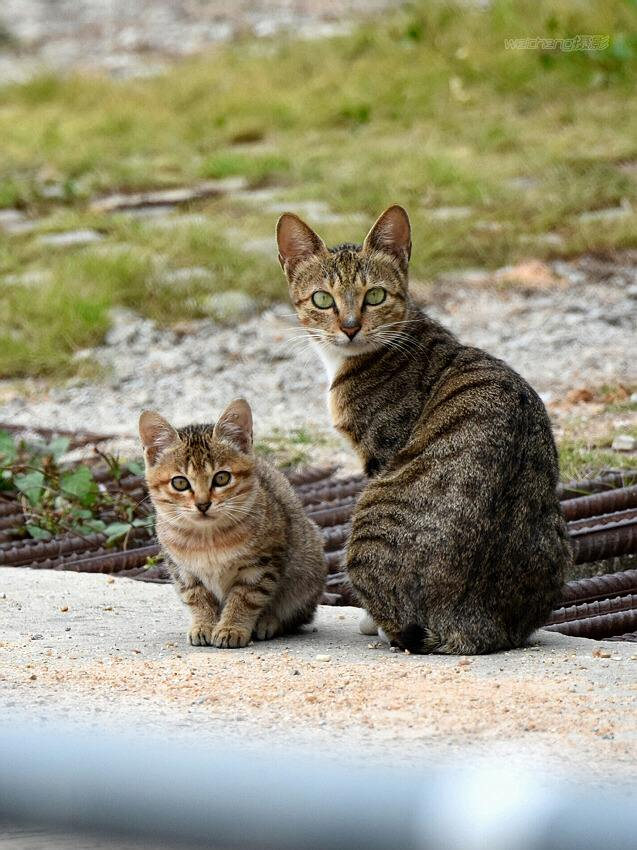cat: (278, 211, 572, 657), (139, 398, 327, 645)
